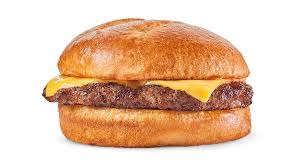hamburger: (42, 17, 257, 145)
